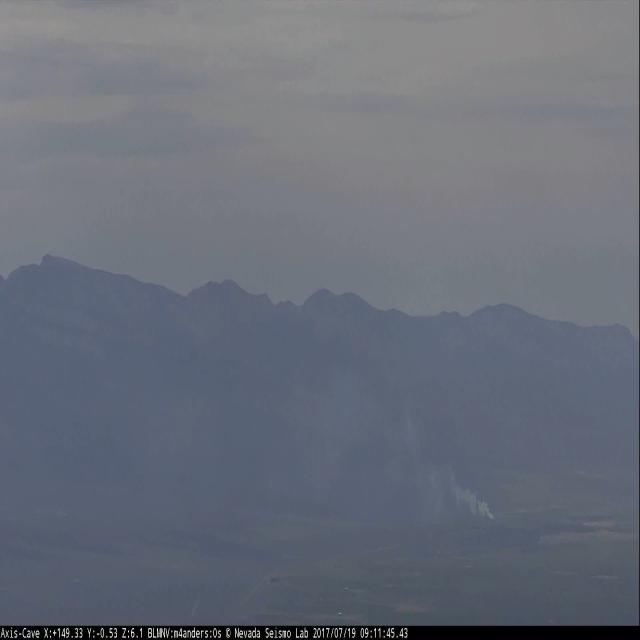smoke: (294, 367, 496, 522)
